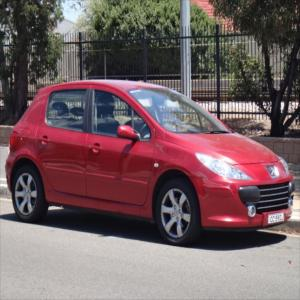Vehicle-registration-plate: (269, 214, 286, 227)
